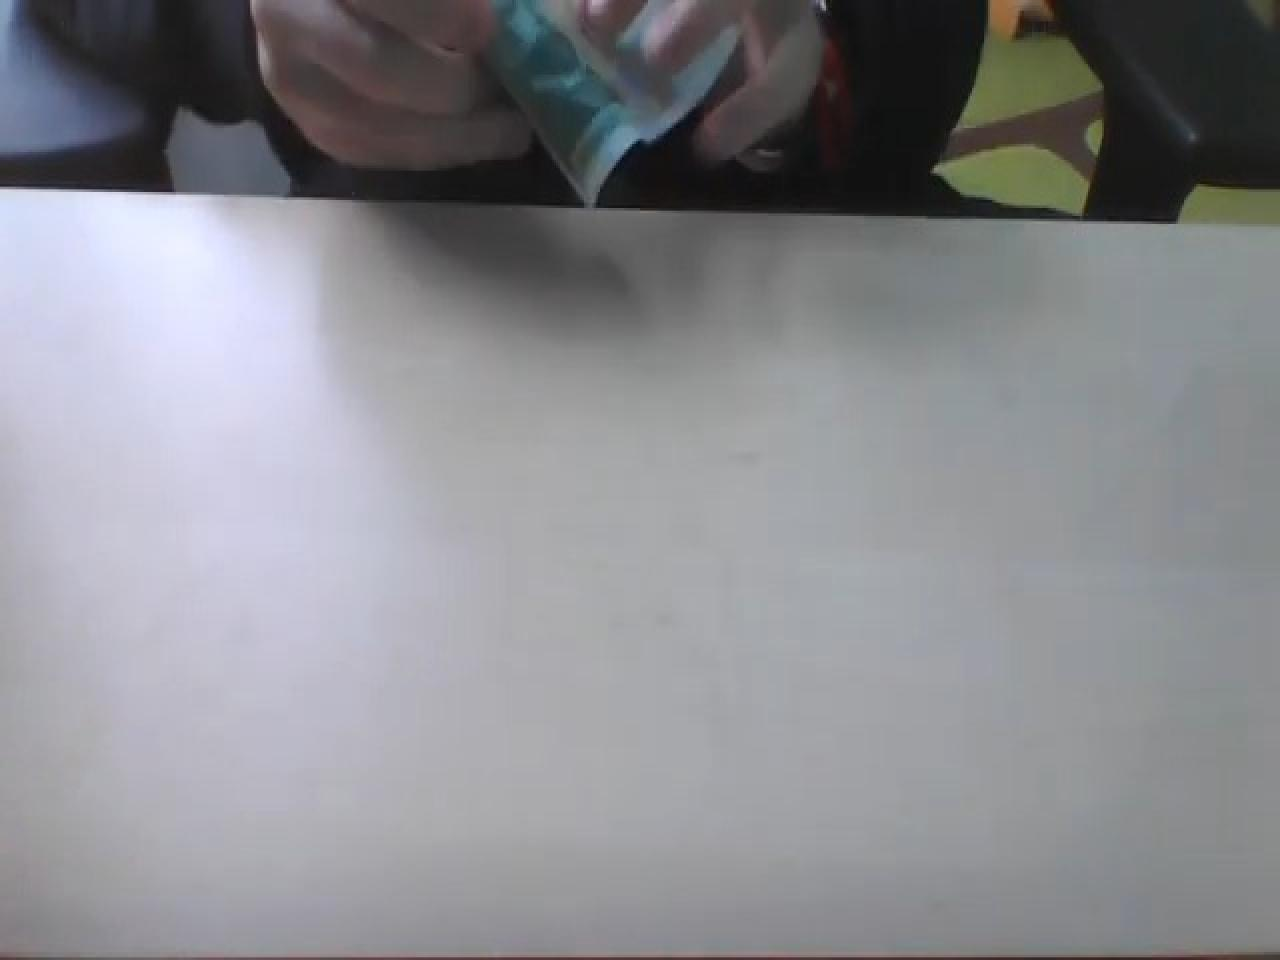100leva: (2, 182, 1276, 955), (8, 0, 1272, 219)
